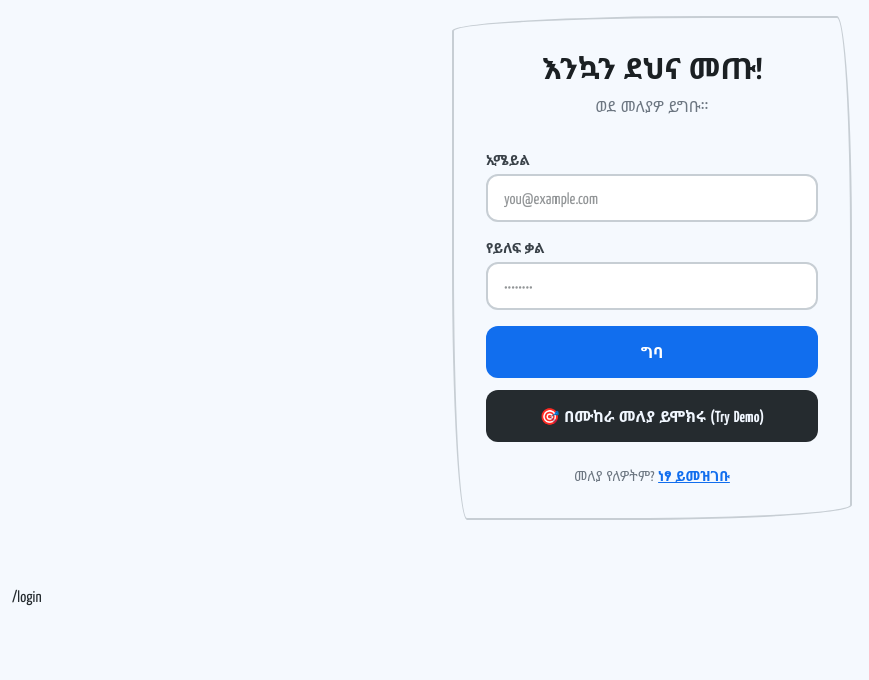
Scenario: Login page › shows the friendly rate-limit message after too many attempts
Type "a@example.com" into the field labelled "ኢሜይል" at coordinates (652, 198), box [486,174,818,222]
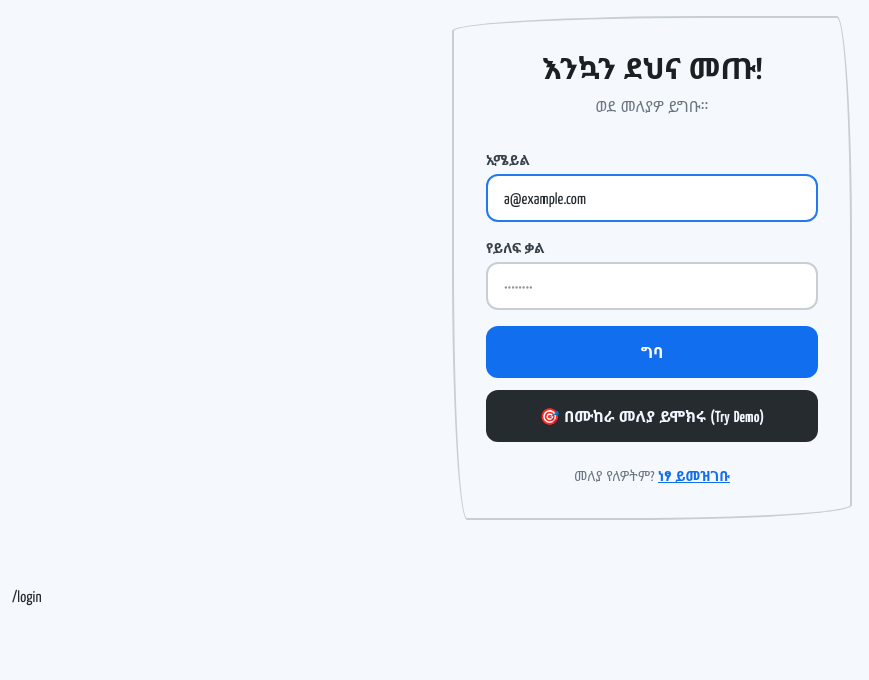
Type "passw0rd!" into the password field labelled "የይለፍ ቃል" at coordinates (652, 286), box [486,262,818,310]
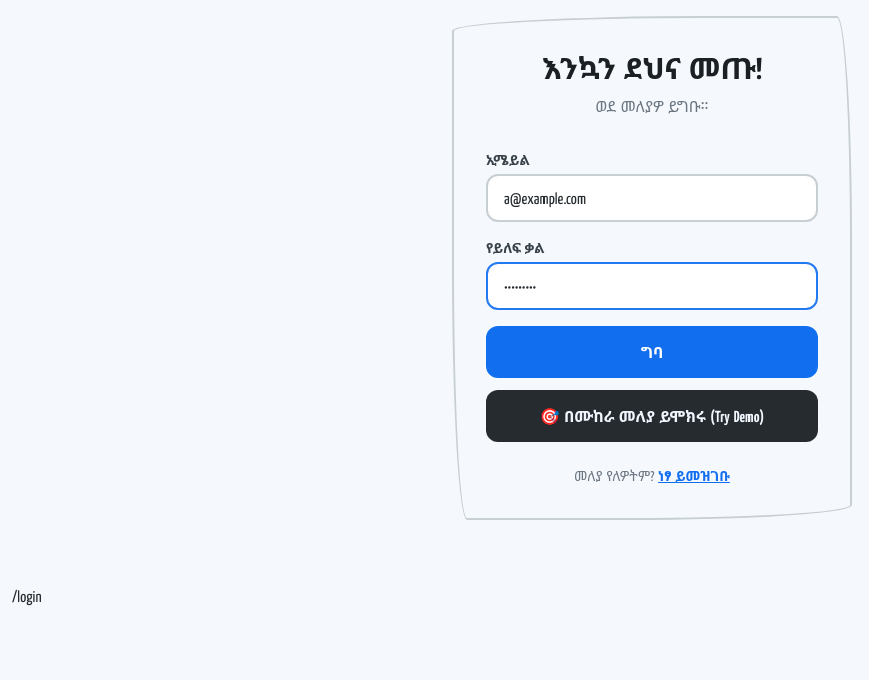
Click the button "ግባ" at coordinates (652, 352), box [486,326,818,378]
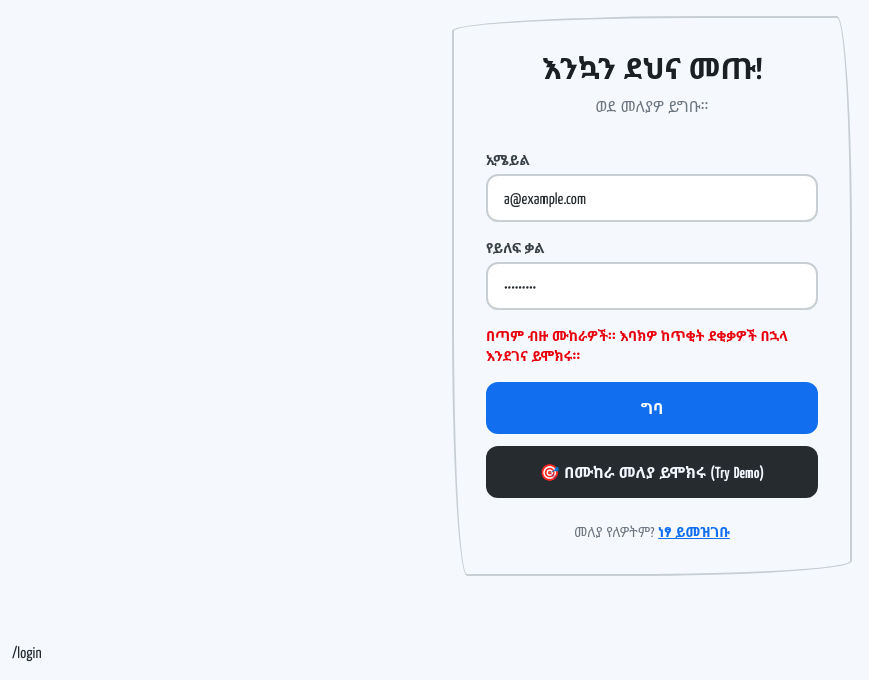
Expected: the text with test id "location" reads "/login", [12,641,42,663]
Now the text "በጣም ብዙ ሙከራዎች። እባክዎ ከጥቂት ደቂቃዎች በኋላ እንደገና ይሞክሩ።" is shown, box [486,326,818,366]
